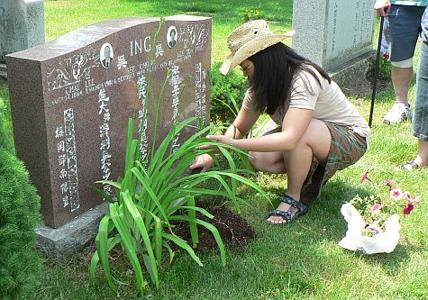person: (187, 19, 373, 226)
